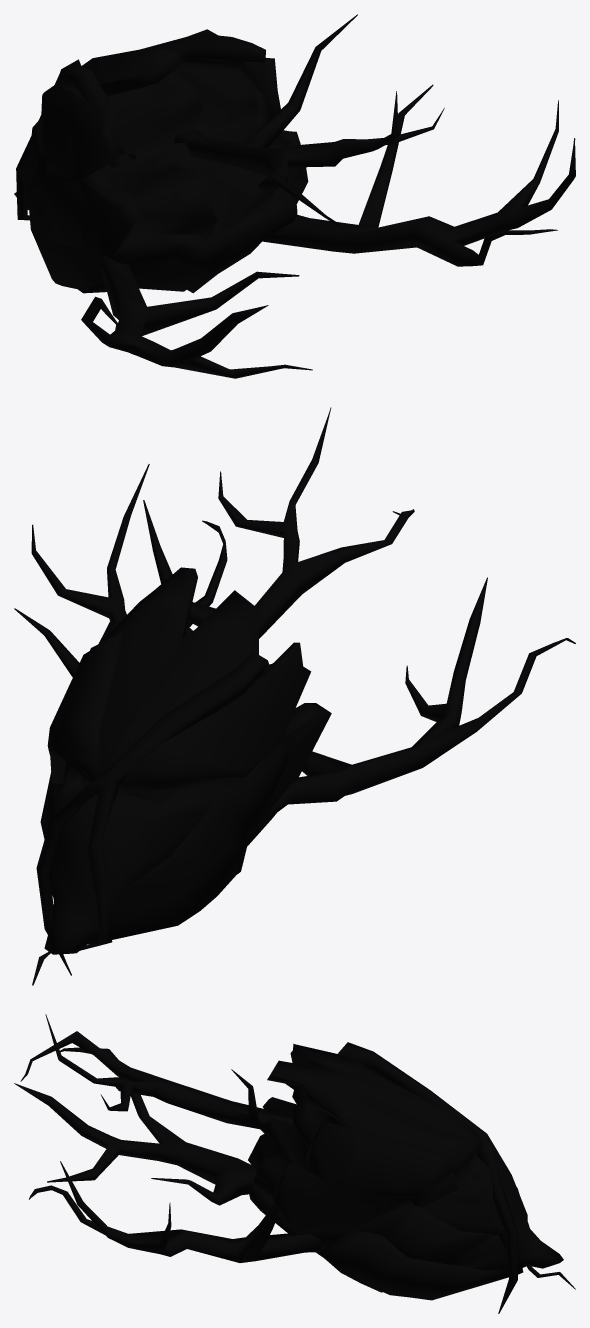
File: HelmetRootFixed.fbx
The picture shows the model from 3 angles, top to bottom: view 1: azimuth 30°, elevation 25°; view 2: azimuth 150°, elevation 25°; view 3: azimuth 270°, elevation 25°; orthographic projection. The views are drawn at different scales.
Parts seen in each view (by area): view 1: HelmetRoot_2; view 2: HelmetRoot_2; view 3: HelmetRoot_2, HelmetRootOnlyHelmetFixedEye.
Part boxes in pixels (x1,y1,x2,y2): HelmetRoot_2: [14, 14, 575, 378]; HelmetRoot_2: [14, 407, 575, 985]; HelmetRoot_2: [14, 1014, 575, 1313]; HelmetRootOnlyHelmetFixedEye: [409, 1172, 457, 1207].
Bounding box in the file's own units: 58.36 × 42.82 × 71.53.
Materials: 1 (1 with a texture image).
